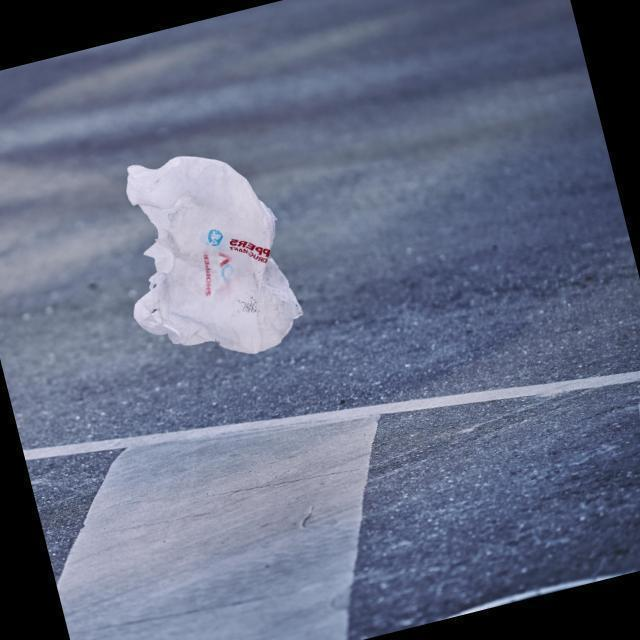Plastic_Bag: (95, 122, 322, 386)
